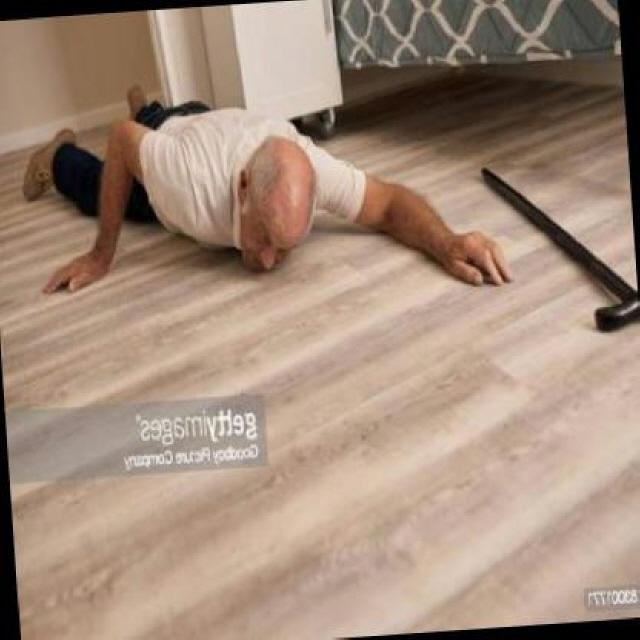Fall: (22, 86, 511, 294)
